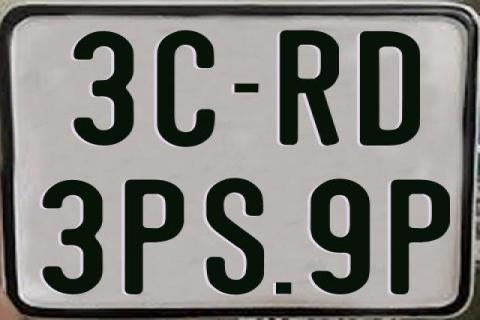0: (42, 180, 108, 295), (74, 31, 138, 146), (310, 177, 372, 293)
C: (156, 28, 218, 146)
D: (359, 29, 421, 145)
P: (122, 178, 183, 294), (388, 178, 449, 294)
R: (280, 31, 341, 147)
S: (203, 178, 267, 300)
